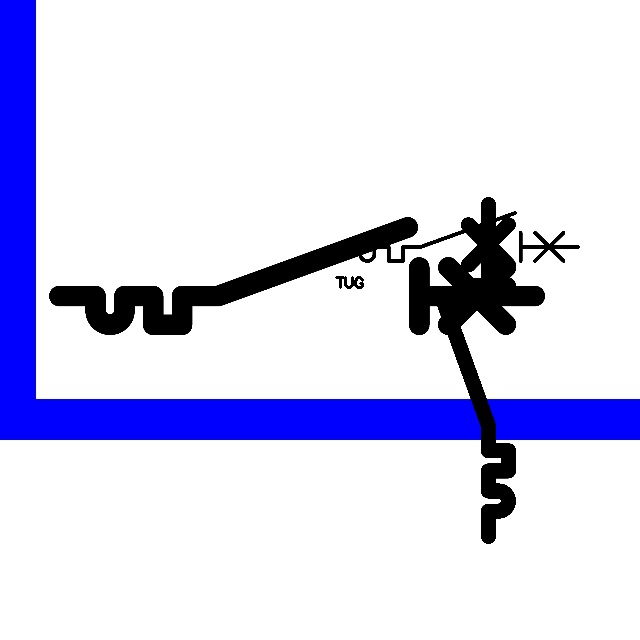interruptor_termomagnetico: (47, 215, 547, 337), (432, 196, 517, 545), (336, 207, 584, 267)
